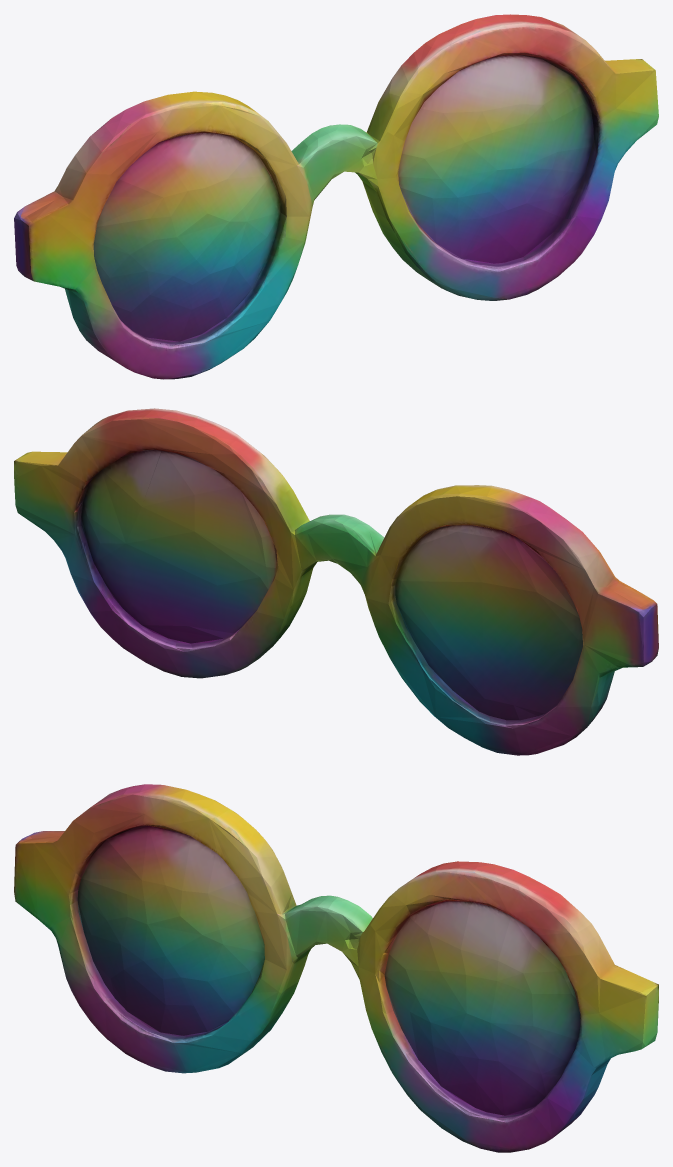
Rendered from rainbow_round_sunglasses.glb.
The picture shows the model from 3 angles, top to bottom: view 1: azimuth 30°, elevation 25°; view 2: azimuth 150°, elevation 25°; view 3: azimuth 330°, elevation 25°; orthographic projection.
Visible parts, largest first — view 1: geometry_0; view 2: geometry_0; view 3: geometry_0.
Boxes of the visible parts, x1,y1,x2,y2 form: geometry_0: (14,14,658,379); geometry_0: (14,408,658,755); geometry_0: (14,784,658,1152).
Size of the model in its own units: 0.5 by 0.2017 by 0.0371.
Materials: 1 (1 with a texture image).
